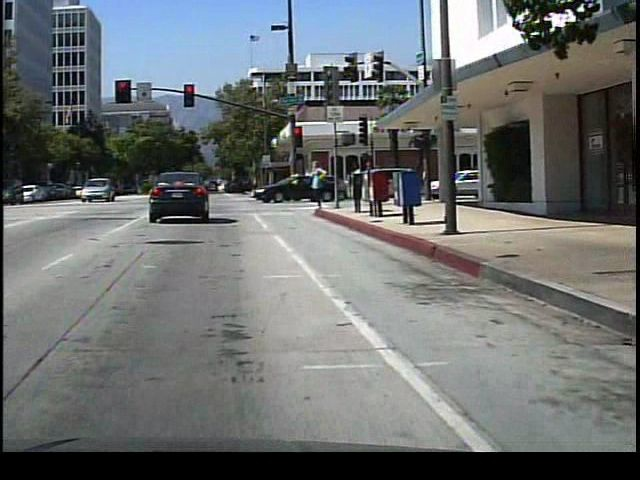person: (308, 153, 332, 214), (364, 155, 383, 206), (352, 157, 370, 204)
